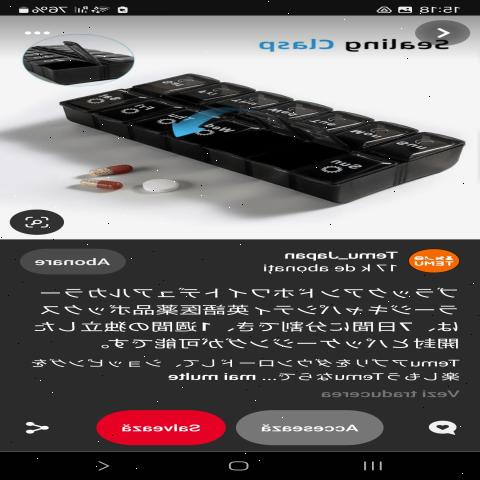PillBox: (51, 63, 471, 205)
